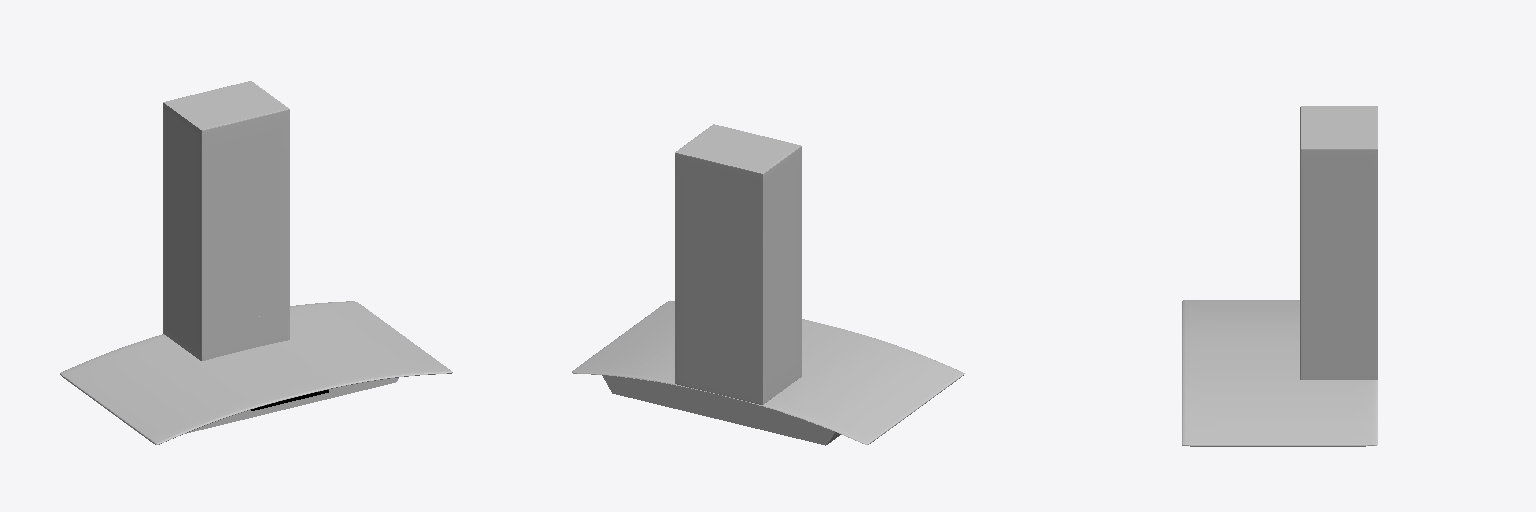
The model's file is Hood1_ori.obj.
The picture shows the model from 3 angles: view 1: azimuth 30°, elevation 25°; view 2: azimuth 150°, elevation 25°; view 3: azimuth 270°, elevation 25°; orthographic projection.
Parts seen in each view (by area): view 1: Funnel_Cube.005, Glass_Plane, Panel_Cube.006; view 2: Funnel_Cube.005, Glass_Plane, Panel_Cube.006; view 3: Glass_Plane, Funnel_Cube.005.
Part boxes in pixels (bbox=[...]): Funnel_Cube.005: bbox=[163, 81, 289, 360]; Glass_Plane: bbox=[60, 301, 452, 444]; Panel_Cube.006: bbox=[185, 378, 398, 433]; Funnel_Cube.005: bbox=[675, 124, 801, 404]; Glass_Plane: bbox=[572, 301, 964, 444]; Panel_Cube.006: bbox=[602, 375, 840, 445]; Glass_Plane: bbox=[1182, 300, 1377, 446]; Funnel_Cube.005: bbox=[1300, 106, 1377, 379].
Bounding box in the file's own units: 0.5987 × 0.496 × 0.3426.